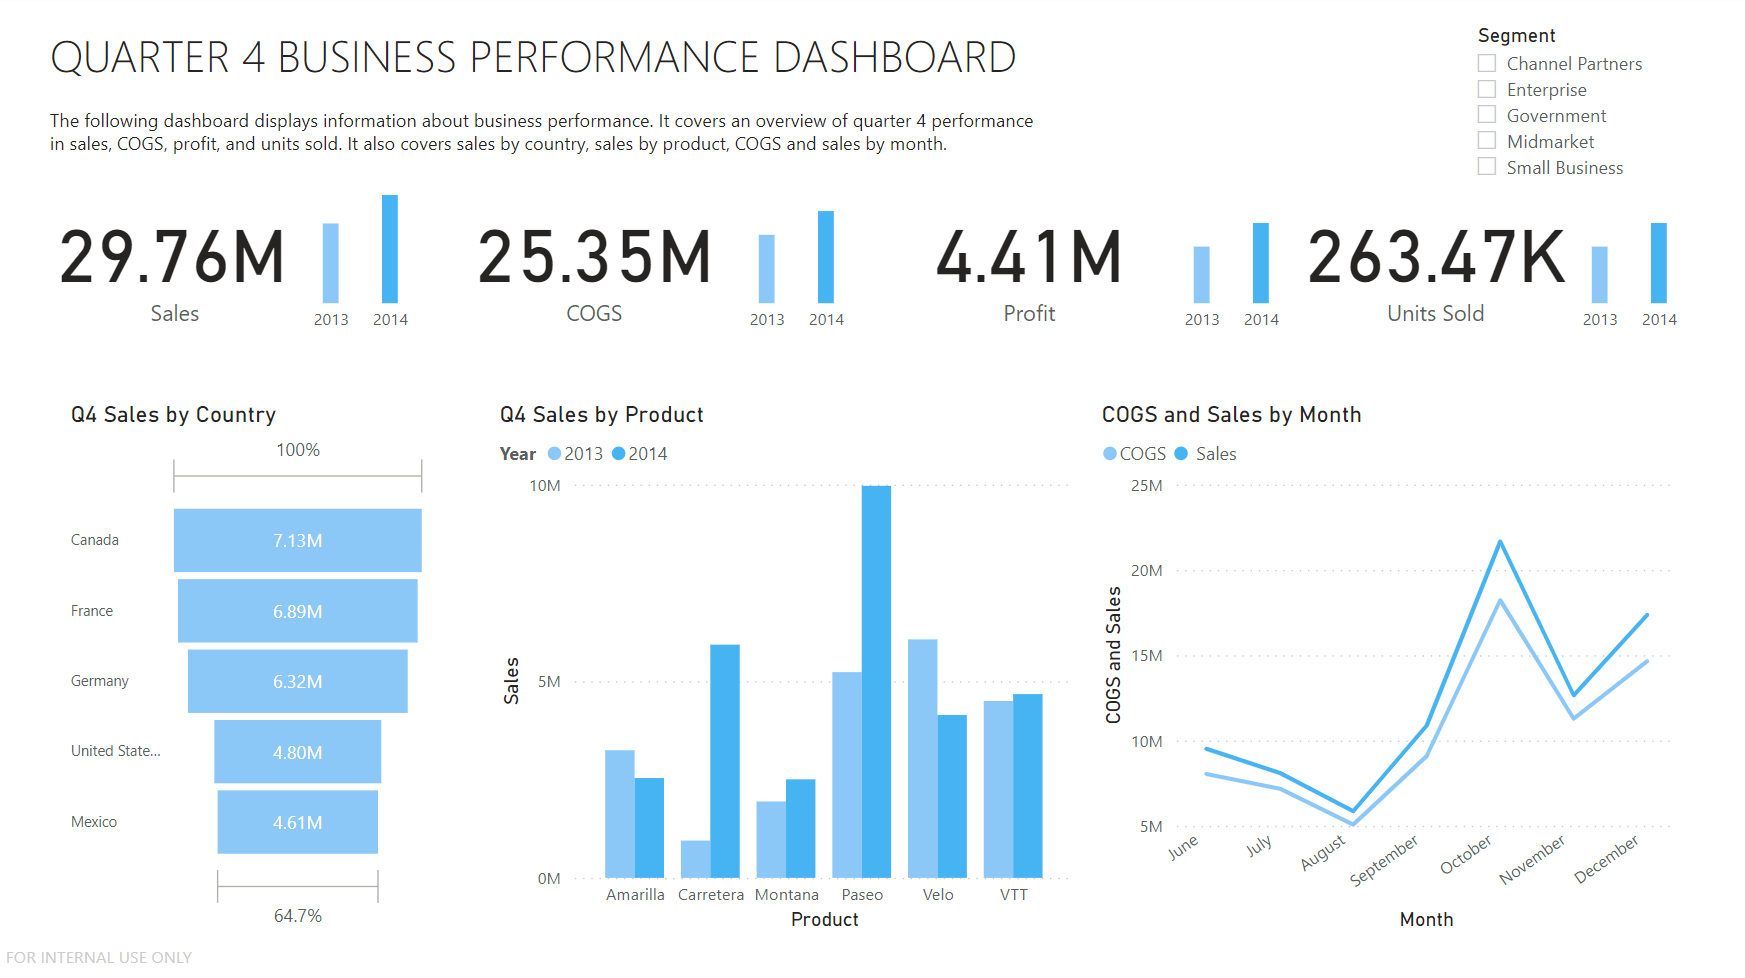

This screenshot's page, from the dashboard's own definition file:
{"tool":"powerbi","page":{"name":"dashboard","canvas":[1280,720],"ordinal":0},"visuals":[{"type":"textbox","box":[32.1,15.4,737.8,61.3],"z":0},{"type":"textbox","box":[0,689.2,173.3,31.1],"z":1000},{"type":"textbox","box":[32.1,76.8,737.8,71.1],"z":3000},{"type":"card","fields":{"Values":["Sum(financials. Sales)"]},"box":[14.6,118.8,223.9,149.9],"z":4000},{"type":"card","fields":{"Values":["Sum(financials.COGS)"]},"box":[320.2,118.8,231.7,149.9],"z":5000},{"type":"card","fields":{"Values":["Sum(financials.Profit)"]},"box":[640.5,118.8,228.7,149.9],"z":6000},{"type":"card","fields":{"Values":["Sum(financials.Units Sold)"]},"box":[943.2,118.8,218,149.9],"z":7000},{"type":"clusteredColumnChart","title":" Q4 Sales by Product","fields":{"Y":["Sum(financials. Sales)"],"Category":["financials.Product"],"Series":["financials.Date.Variation.Date Hierarchy.Year"]},"box":[361.6,296.2,431,393.3],"z":8000},{"type":"funnel","title":"Q4 Sales by Country","fields":{"Category":["financials.Country"],"Y":["Sum(financials. Sales)"]},"box":[47.6,296.2,272.4,393.3],"z":9000},{"type":"lineChart","fields":{"Y":["Sum(financials.COGS)","Sum(financials. Sales)"],"Category":["financials.Date.Variation.Date Hierarchy.Month"]},"box":[803,296,431,393],"z":10000},{"type":"columnChart","fields":{"Category":["financials.Date.Variation.Date Hierarchy.Year"],"Y":["Sum(financials. Sales)"],"Series":["financials.Date.Variation.Date Hierarchy.Year"]},"box":[223.9,131.4,80.8,123.6],"z":11000},{"type":"columnChart","fields":{"Category":["financials.Date.Variation.Date Hierarchy.Year"],"Y":["Sum(financials.COGS)"],"Series":["financials.Date.Variation.Date Hierarchy.Year"]},"box":[543.1,131.4,80.8,123.6],"z":12000},{"type":"columnChart","fields":{"Category":["financials.Date.Variation.Date Hierarchy.Year"],"Y":["Sum(financials.Profit)"],"Series":["financials.Date.Variation.Date Hierarchy.Year"]},"box":[862.4,131.4,80.8,123.6],"z":13000},{"type":"columnChart","fields":{"Category":["financials.Date.Variation.Date Hierarchy.Year"],"Y":["Sum(financials.Profit)"],"Series":["financials.Date.Variation.Date Hierarchy.Year"]},"box":[1153.5,131.4,80.8,123.6],"z":14000},{"type":"slicer","fields":{"Values":["financials.Segment"]},"box":[1069.7,15.6,176.2,132.4],"z":15000}]}

Visuals, with their boxes in screenshot pixels (x1, y1, x2, y2), scaled from the page's 1280x720 canvas onto the 1745x978 screenshot:
textbox: 44/21/1050/104
textbox: 0/936/236/977
textbox: 44/104/1050/201
card - Sum(financials. Sales): 20/161/325/365
card - Sum(financials.COGS): 437/161/752/365
card - Sum(financials.Profit): 873/161/1185/365
card - Sum(financials.Units Sold): 1286/161/1583/365
" Q4 Sales by Product" clusteredColumnChart: 493/402/1081/937
"Q4 Sales by Country" funnel: 65/402/436/937
lineChart - Sum(financials.COGS) x Sum(financials. Sales): 1095/402/1682/936
columnChart - financials.Date.Variation.Date Hierarchy.Year x Sum(financials. Sales): 305/178/415/346
columnChart - financials.Date.Variation.Date Hierarchy.Year x Sum(financials.COGS): 740/178/851/346
columnChart - financials.Date.Variation.Date Hierarchy.Year x Sum(financials.Profit): 1176/178/1286/346
columnChart - financials.Date.Variation.Date Hierarchy.Year x Sum(financials.Profit): 1573/178/1683/346
slicer - financials.Segment: 1458/21/1699/201
